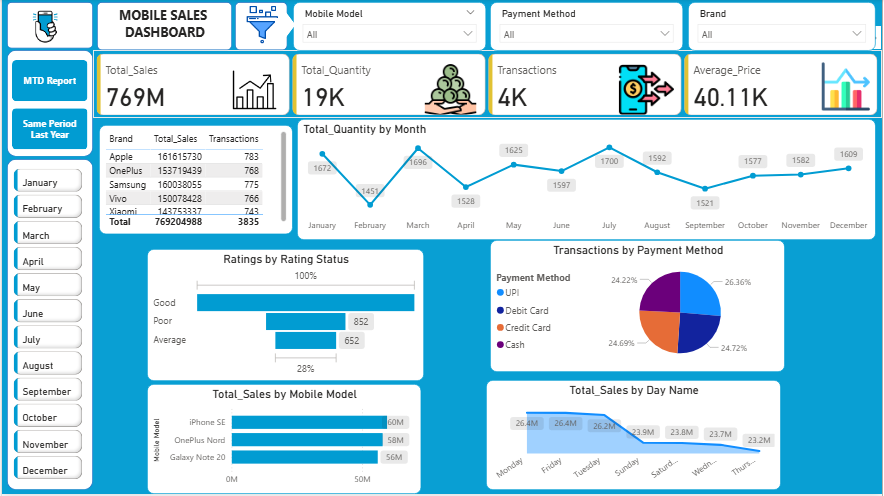

The dashboard page shown, as its layout file describes it:
{"tool":"powerbi","page":{"name":"Dashboard","canvas":[1280,720],"ordinal":0},"visuals":[{"type":"shape","box":[7.5,3.8,125,67.5],"z":0},{"type":"image","box":[23.8,3.8,78.8,71.2],"z":1000},{"type":"shape","box":[7.5,73.8,125,155],"z":2000},{"type":"shape","box":[7.5,232.5,125,481.2],"z":3000},{"type":"advancedSlicerVisual","fields":{"Values":["Custom_Calendar.Date.Variation.Date Hierarchy.Month"]},"box":[11.2,241.2,110,472.5],"z":4000},{"type":"cardVisual","fields":{"Data":["Sales_Data.Total_Sales","Sales_Data.Total_Quantity","Sales_Data.Transactions","Sales_Data.Average_Price"]},"box":[132.5,73.8,1147.5,100],"z":5000},{"type":"slicer","fields":{"Values":["Sales_Data.Mobile Model"]},"box":[423.8,3.8,281.2,71.2],"z":6000},{"type":"slicer","fields":{"Values":["Sales_Data.Payment Method"]},"box":[710,3.8,281.2,71.2],"z":7000},{"type":"slicer","fields":{"Values":["Sales_Data.Brand"]},"box":[997.5,3.8,272.5,71.2],"z":8000},{"type":"shape","box":[338.8,3.8,76.2,70],"z":9000},{"type":"image","box":[337.5,3.8,81.2,66.2],"z":10000},{"type":"shape","box":[397.5,17.5,30,40],"z":11000},{"type":"shape","box":[137.5,3.8,196.2,70],"z":12000},{"type":"textbox","box":[156.2,6.2,162.5,63.8],"z":13000},{"type":"lineChart","fields":{"Y":["Sales_Data.Total_Quantity"],"Category":["Custom_Calendar.Date.Variation.Date Hierarchy.Month"]},"box":[429.1,174.5,842.2,176],"z":15000},{"type":"funnel","title":"Ratings by Rating Status","fields":{"Y":["CountNonNull(Sales_Data.Customer Ratings)"],"Category":["Sales_Data.Rating Status"]},"box":[210.9,363.6,402.9,192],"z":16000},{"type":"pieChart","fields":{"Y":["Sales_Data.Transactions"],"Category":["Sales_Data.Payment Method"]},"box":[709.8,350.5,429.1,192],"z":17000},{"type":"clusteredBarChart","fields":{"Y":["Sales_Data.Total_Sales"],"Category":["Sales_Data.Mobile Model"]},"box":[210.9,560,398.5,160],"z":18000},{"type":"areaChart","fields":{"Y":["Sales_Data.Total_Sales"],"Category":["Custom_Calendar.Day Name"]},"box":[704,554.2,429.1,160],"z":19000},{"type":"tableEx","fields":{"Values":["Sales_Data.Brand","Sales_Data.Total_Sales","Sales_Data.Transactions"]},"box":[141.1,183.3,282.2,158.5],"z":20000},{"type":"pageNavigator","box":[15,88.8,110,130],"z":21000}]}

Visuals, with their boxes in screenshot pixels (x1, y1, x2, y2), scaled from the page's 1280x720 canvas onto the 884x496 screenshot:
shape: detection(5, 3, 92, 49)
image: detection(16, 3, 71, 52)
shape: detection(5, 51, 92, 158)
shape: detection(5, 160, 92, 492)
advancedSlicerVisual - Custom_Calendar.Date.Variation.Date Hierarchy.Month: detection(8, 166, 84, 492)
cardVisual - Sales_Data.Total_Sales x Sales_Data.Total_Quantity: detection(92, 51, 883, 120)
slicer - Sales_Data.Mobile Model: detection(293, 3, 487, 52)
slicer - Sales_Data.Payment Method: detection(490, 3, 685, 52)
slicer - Sales_Data.Brand: detection(689, 3, 877, 52)
shape: detection(234, 3, 287, 51)
image: detection(233, 3, 289, 48)
shape: detection(275, 12, 295, 40)
shape: detection(95, 3, 230, 51)
textbox: detection(108, 4, 220, 48)
lineChart - Sales_Data.Total_Quantity x Custom_Calendar.Date.Variation.Date Hierarchy.Month: detection(296, 120, 878, 241)
"Ratings by Rating Status" funnel: detection(146, 250, 424, 383)
pieChart - Sales_Data.Transactions x Sales_Data.Payment Method: detection(490, 241, 787, 374)
clusteredBarChart - Sales_Data.Total_Sales x Sales_Data.Mobile Model: detection(146, 386, 421, 495)
areaChart - Sales_Data.Total_Sales x Custom_Calendar.Day Name: detection(486, 382, 783, 492)
tableEx - Sales_Data.Brand x Sales_Data.Total_Sales: detection(97, 126, 292, 235)
pageNavigator: detection(10, 61, 86, 151)
